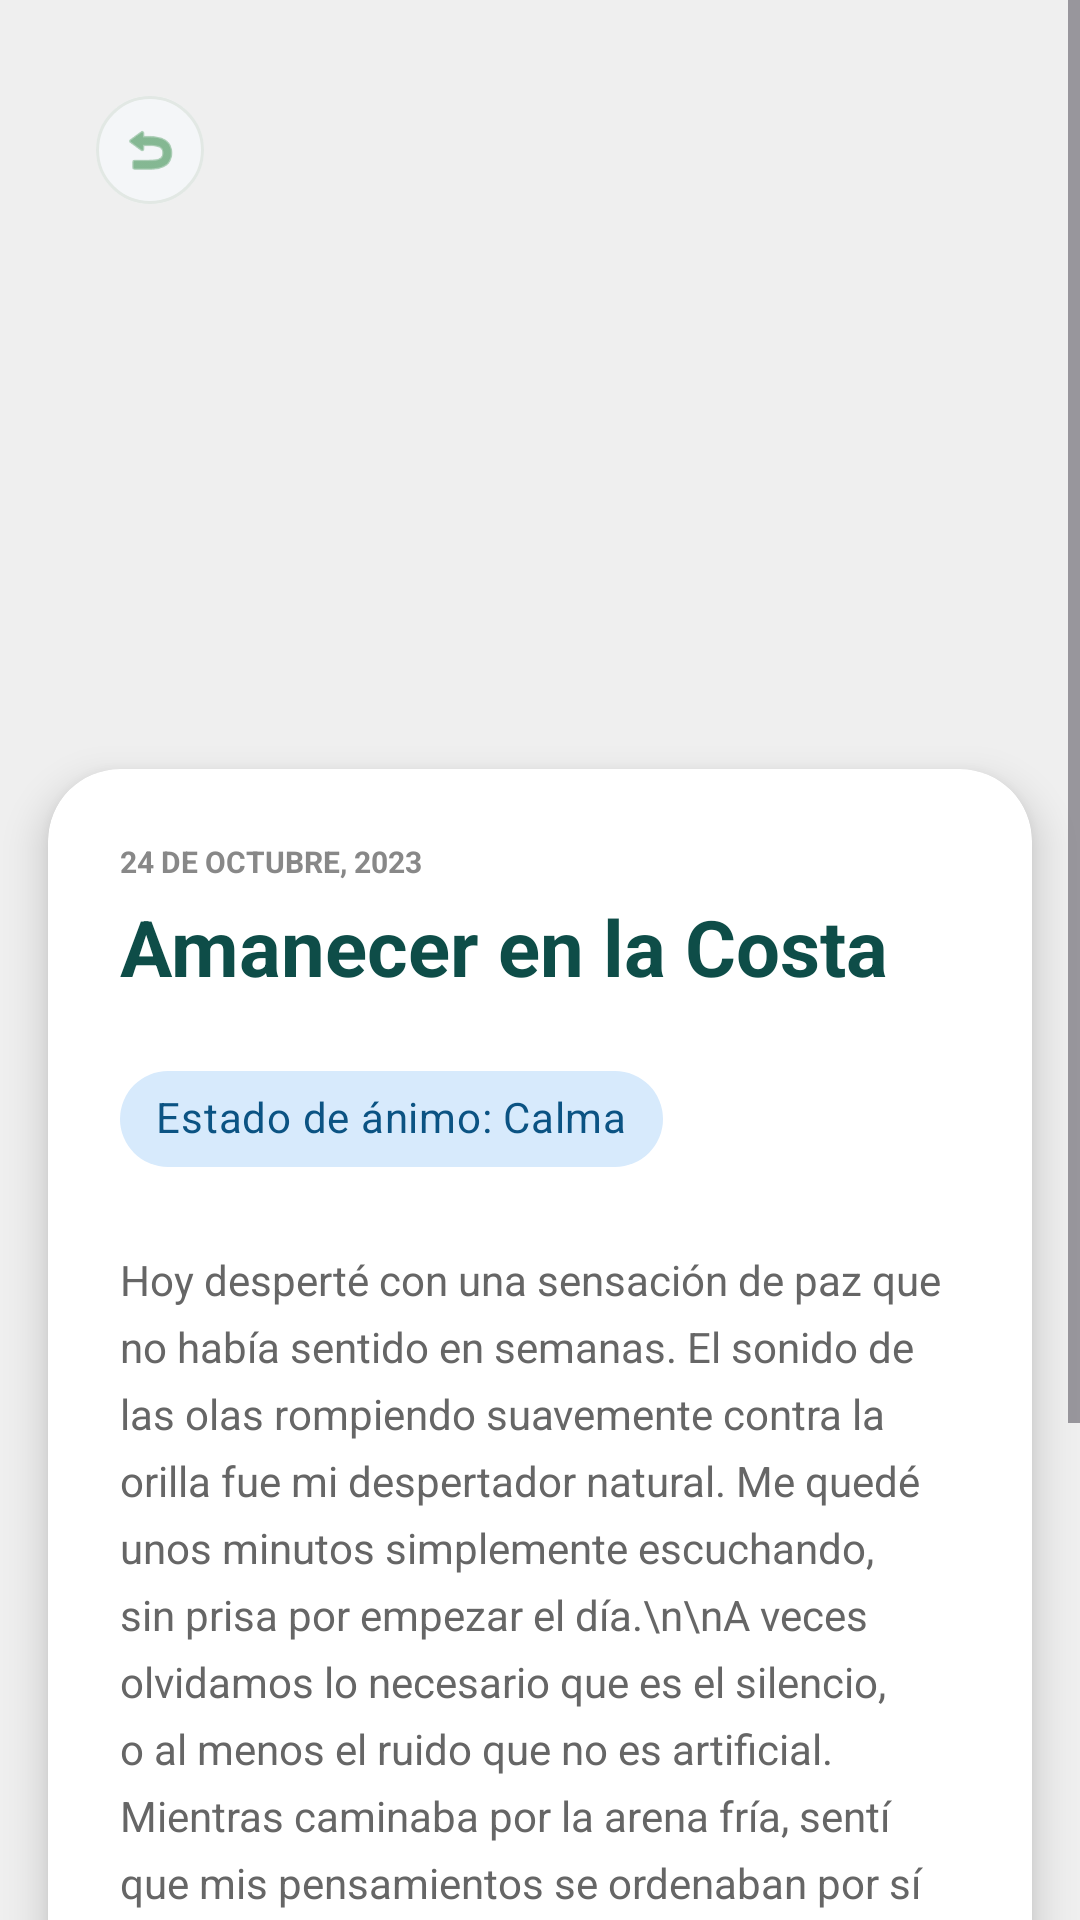

Named icons in this screenshot (1080*1920) and their bounding boxes, bbox=(x1, y1, x2, y2):
revert: bbox=(129, 131, 172, 170)
